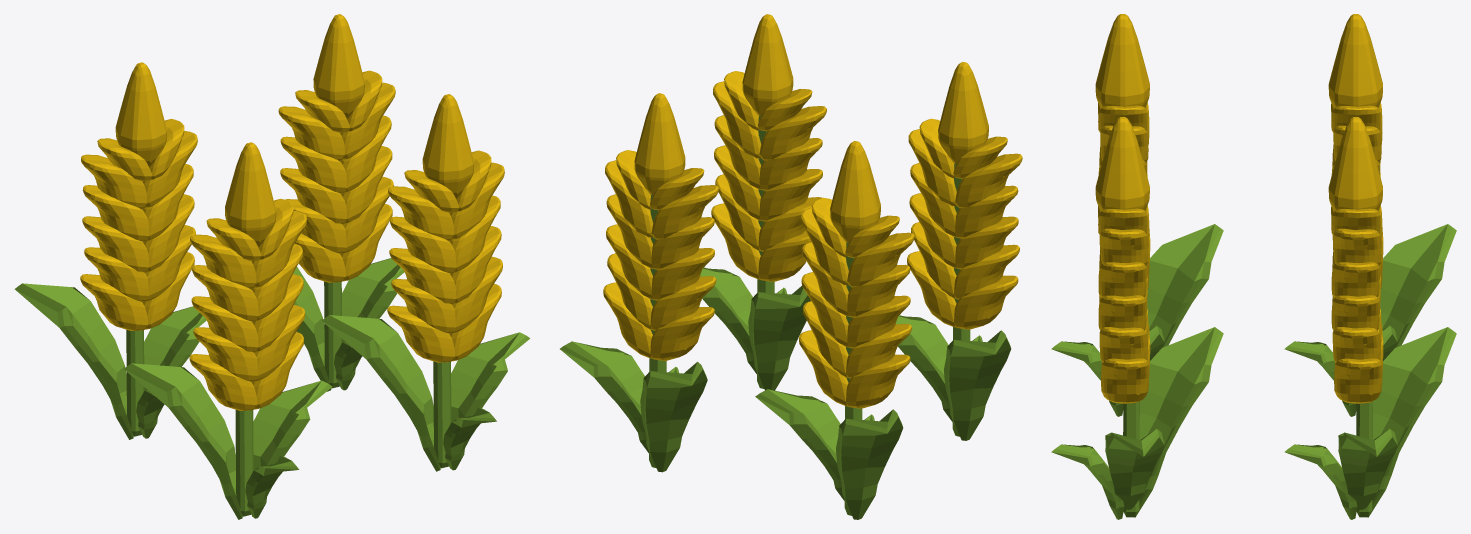
The model's file is Rice plant 1.fbx.
The picture shows the model from 3 angles, left to right: view 1: azimuth 30°, elevation 25°; view 2: azimuth 150°, elevation 25°; view 3: azimuth 270°, elevation 25°; orthographic projection. The views are drawn at different scales.
Parts seen in each view (by area): view 1: Cube.015, Cube.001, Cube.006, Cube.014, Cube.003, Cube.008, Cube.012, Cube.007, Cube.002, Cube.017, Cube.010, Cube.016 (+4 smaller); view 2: Cube.006, Cube.014, Cube.015, Cube.001, Cube.017, Cube.008, Cube.012, Cube.003, Cube.010, Cube.016, Cube.002, Cube.007; view 3: Cube.001, Cube.014, Cube.003, Cube.017, Cube.012, Cube.008, Cube.015, Cube.006, Cube.002, Cube.016, Cube.004, Cube.018.
Part boxes in pixels (bbox=[...]): Cube.015: bbox=[189, 142, 306, 410]; Cube.001: bbox=[387, 94, 504, 362]; Cube.006: bbox=[80, 62, 197, 330]; Cube.014: bbox=[278, 14, 395, 282]; Cube.003: bbox=[321, 315, 496, 471]; Cube.008: bbox=[124, 363, 299, 519]; Cube.012: bbox=[14, 283, 164, 439]; Cube.007: bbox=[253, 380, 332, 470]; Cube.002: bbox=[451, 332, 529, 422]; Cube.017: bbox=[216, 237, 362, 391]; Cube.010: bbox=[144, 306, 206, 390]; Cube.016: bbox=[342, 258, 404, 341]; Cube.006: bbox=[799, 141, 914, 408]; Cube.014: bbox=[603, 93, 718, 360]; Cube.015: bbox=[907, 62, 1022, 329]; Cube.001: bbox=[711, 14, 826, 281]; Cube.017: bbox=[640, 361, 707, 472]; Cube.008: bbox=[944, 330, 1011, 440]; Cube.012: bbox=[836, 409, 903, 519]; Cube.003: bbox=[748, 286, 810, 390]; Cube.010: bbox=[755, 389, 844, 500]; Cube.016: bbox=[560, 341, 648, 452]; Cube.002: bbox=[700, 267, 756, 373]; Cube.007: bbox=[895, 315, 952, 421]; Cube.001: bbox=[1095, 117, 1150, 403]; Cube.014: bbox=[1328, 117, 1383, 403]; Cube.003: bbox=[1051, 327, 1223, 519]; Cube.017: bbox=[1284, 327, 1456, 519]; Cube.012: bbox=[1284, 224, 1456, 416]; Cube.008: bbox=[1051, 224, 1223, 416]; Cube.015: bbox=[1095, 14, 1150, 288]; Cube.006: bbox=[1328, 14, 1383, 288]; Cube.002: bbox=[1105, 429, 1164, 509]; Cube.016: bbox=[1338, 429, 1397, 509]; Cube.004: bbox=[1123, 401, 1139, 517]; Cube.018: bbox=[1356, 401, 1372, 517].
Bounding box in the file's own units: 1575 × 1534 × 1404.
